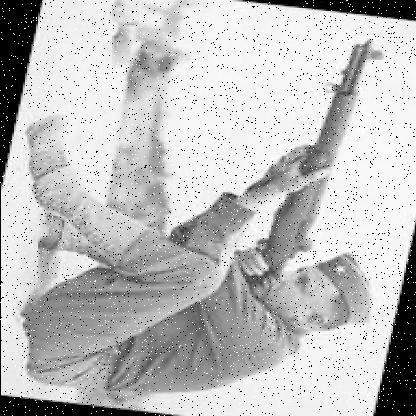rifle: (228, 26, 394, 298)
